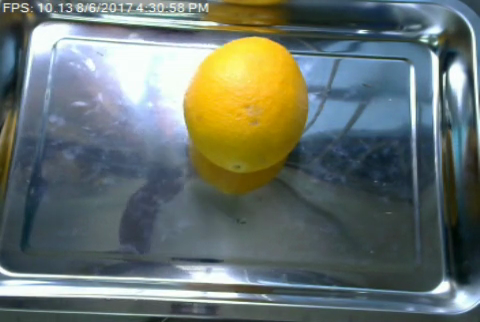Orange: (184, 37, 309, 174)
